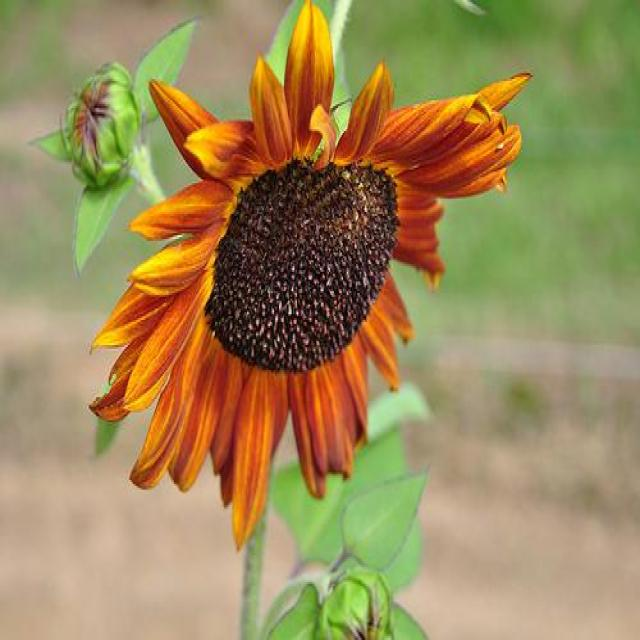sunflower: (89, 0, 532, 555)
